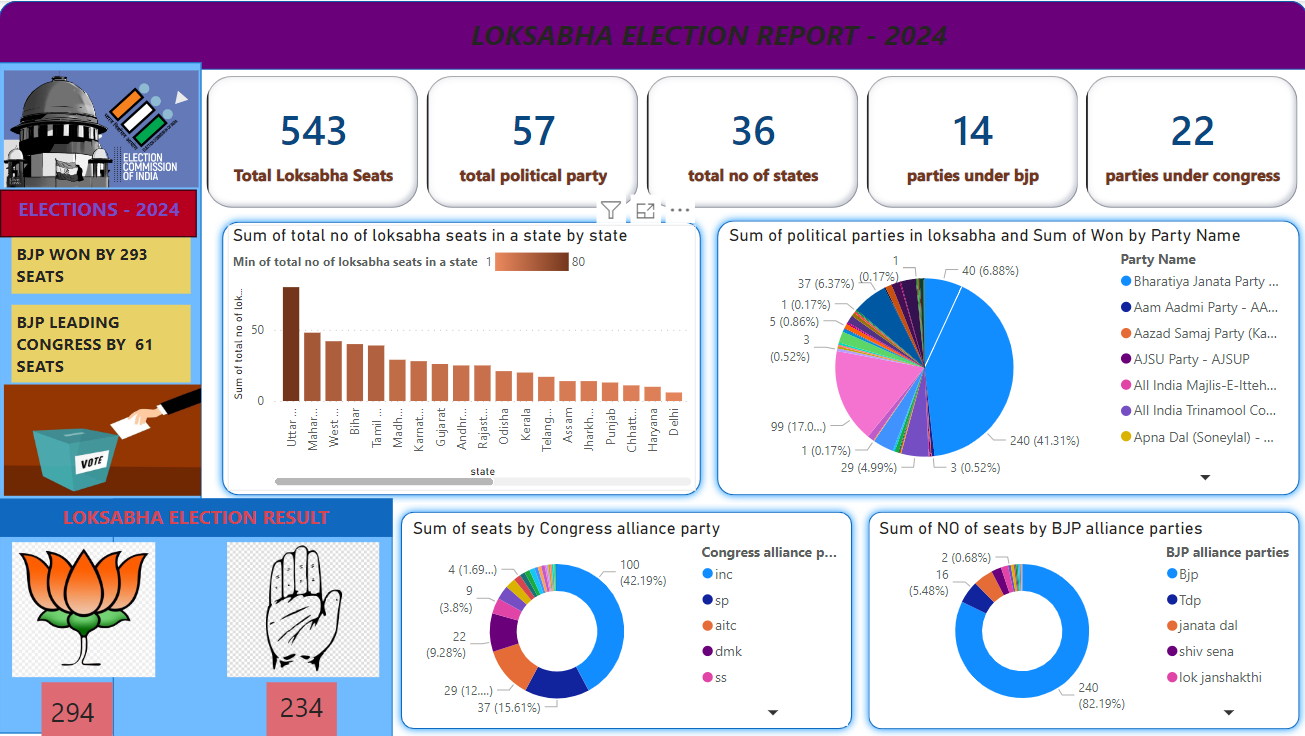

The page's visual inventory and layout, read from the dashboard file:
{"tool":"powerbi","page":{"name":"Page 1","canvas":[1280,720],"ordinal":0},"visuals":[{"type":"cardVisual","fields":{"Data":["NO of seats.Total Loksabha Seats","NO of seats.total political party","Sheet1 (2).total no of states","NO of seats.parties under bjp","NO of seats.parties under congress"]},"box":[198,68.5,1081.8,139.4],"z":0},{"type":"shape","box":[0,0,1279.9,67.2],"z":1000},{"type":"textbox","box":[416.8,9.8,555,50.1],"z":2000},{"type":"shape","box":[210.3,207.8,484.1,283.6],"z":3000},{"type":"clusteredColumnChart","fields":{"Y":["Sum(Sheet1 (3).total no of loksabha seats in a state)"],"Category":["Sheet1 (3).state"]},"box":[223.7,218.8,458.4,260.4],"z":4000},{"type":"shape","box":[694.3,206.6,585.5,284.8],"z":5000},{"type":"pieChart","fields":{"Y":["Sum(Sheet1 (2).political parties in loksabha)","Sum(Sheet1 (2).Won)"],"Category":["Sheet1 (2).Party Name"]},"box":[709,218.8,557.4,260.4],"z":6000},{"type":"shape","box":[842.5,491.2,437.5,228.8],"z":7000},{"type":"donutChart","fields":{"Y":["Sum(NO of seats.NO of seats)"],"Category":["NO of seats.BJP alliance parties"]},"box":[856.2,505,411.2,203.8],"z":8000},{"type":"shape","box":[385.1,491.4,457.2,228.6],"z":9000},{"type":"shape","box":[0,59.9,198,656.4],"z":10000},{"type":"shape","box":[111.2,486.5,273.8,233.5],"z":11000},{"type":"textbox","box":[0,486.5,385.1,37.9],"z":12000},{"type":"image","box":[0,524.4,165,141.8],"z":13000},{"type":"image","box":[210.3,524.4,174.8,141.8],"z":14000},{"type":"textbox","box":[41.6,666.2,69.7,53.8],"z":15000},{"type":"textbox","box":[261.6,666.2,68.5,53.8],"z":16000},{"type":"image","box":[0,59.9,200,130.8],"z":17000},{"type":"image","box":[0,254.3,202.9,349.6],"z":18000},{"type":"donutChart","fields":{"Category":["Sheet1.Congress alliance party"],"Y":["Sum(Sheet1.seats)"]},"box":[399.7,504.9,430.3,204.1],"z":19000},{"type":"textbox","box":[1.2,184.6,191.9,46.5],"z":20000},{"type":"textbox","box":[12.2,231,174.8,55],"z":21000},{"type":"textbox","box":[12.2,297,174.8,75.8],"z":22000}]}

Visuals, with their boxes in screenshot pixels (x1, y1, x2, y2), scaled from the page's 1280x720 canvas onto the 1305x736 screenshot:
cardVisual - NO of seats.Total Loksabha Seats x NO of seats.total political party: 202:70:1304:213
shape: 0:0:1304:69
textbox: 425:10:991:61
shape: 214:212:708:502
clusteredColumnChart - Sum(Sheet1 (3).total no of loksabha seats in a state) x Sheet1 (3).state: 228:224:695:490
shape: 708:211:1304:502
pieChart - Sum(Sheet1 (2).political parties in loksabha) x Sum(Sheet1 (2).Won): 723:224:1291:490
shape: 859:502:1304:735
donutChart - Sum(NO of seats.NO of seats) x NO of seats.BJP alliance parties: 873:516:1292:725
shape: 393:502:859:735
shape: 0:61:202:732
shape: 113:497:393:735
textbox: 0:497:393:536
image: 0:536:168:681
image: 214:536:393:681
textbox: 42:681:113:735
textbox: 267:681:337:735
image: 0:61:204:195
image: 0:260:207:617
donutChart - Sheet1.Congress alliance party x Sum(Sheet1.seats): 408:516:846:725
textbox: 1:189:197:236
textbox: 12:236:191:292
textbox: 12:304:191:381
